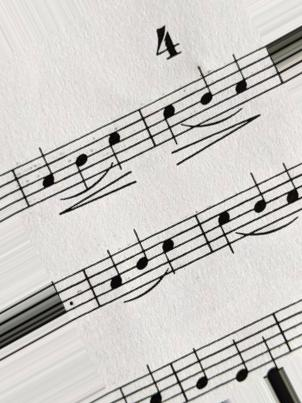A: (30, 145, 61, 200), (224, 50, 253, 107), (275, 162, 301, 225), (99, 247, 127, 303), (137, 363, 170, 402)
B: (242, 173, 269, 234), (191, 65, 217, 126), (128, 228, 153, 290), (69, 138, 92, 190)
E: (225, 335, 251, 387)
G: (186, 347, 211, 393)
HC: (213, 206, 239, 255), (157, 232, 182, 281), (158, 99, 183, 147), (104, 124, 127, 171)
